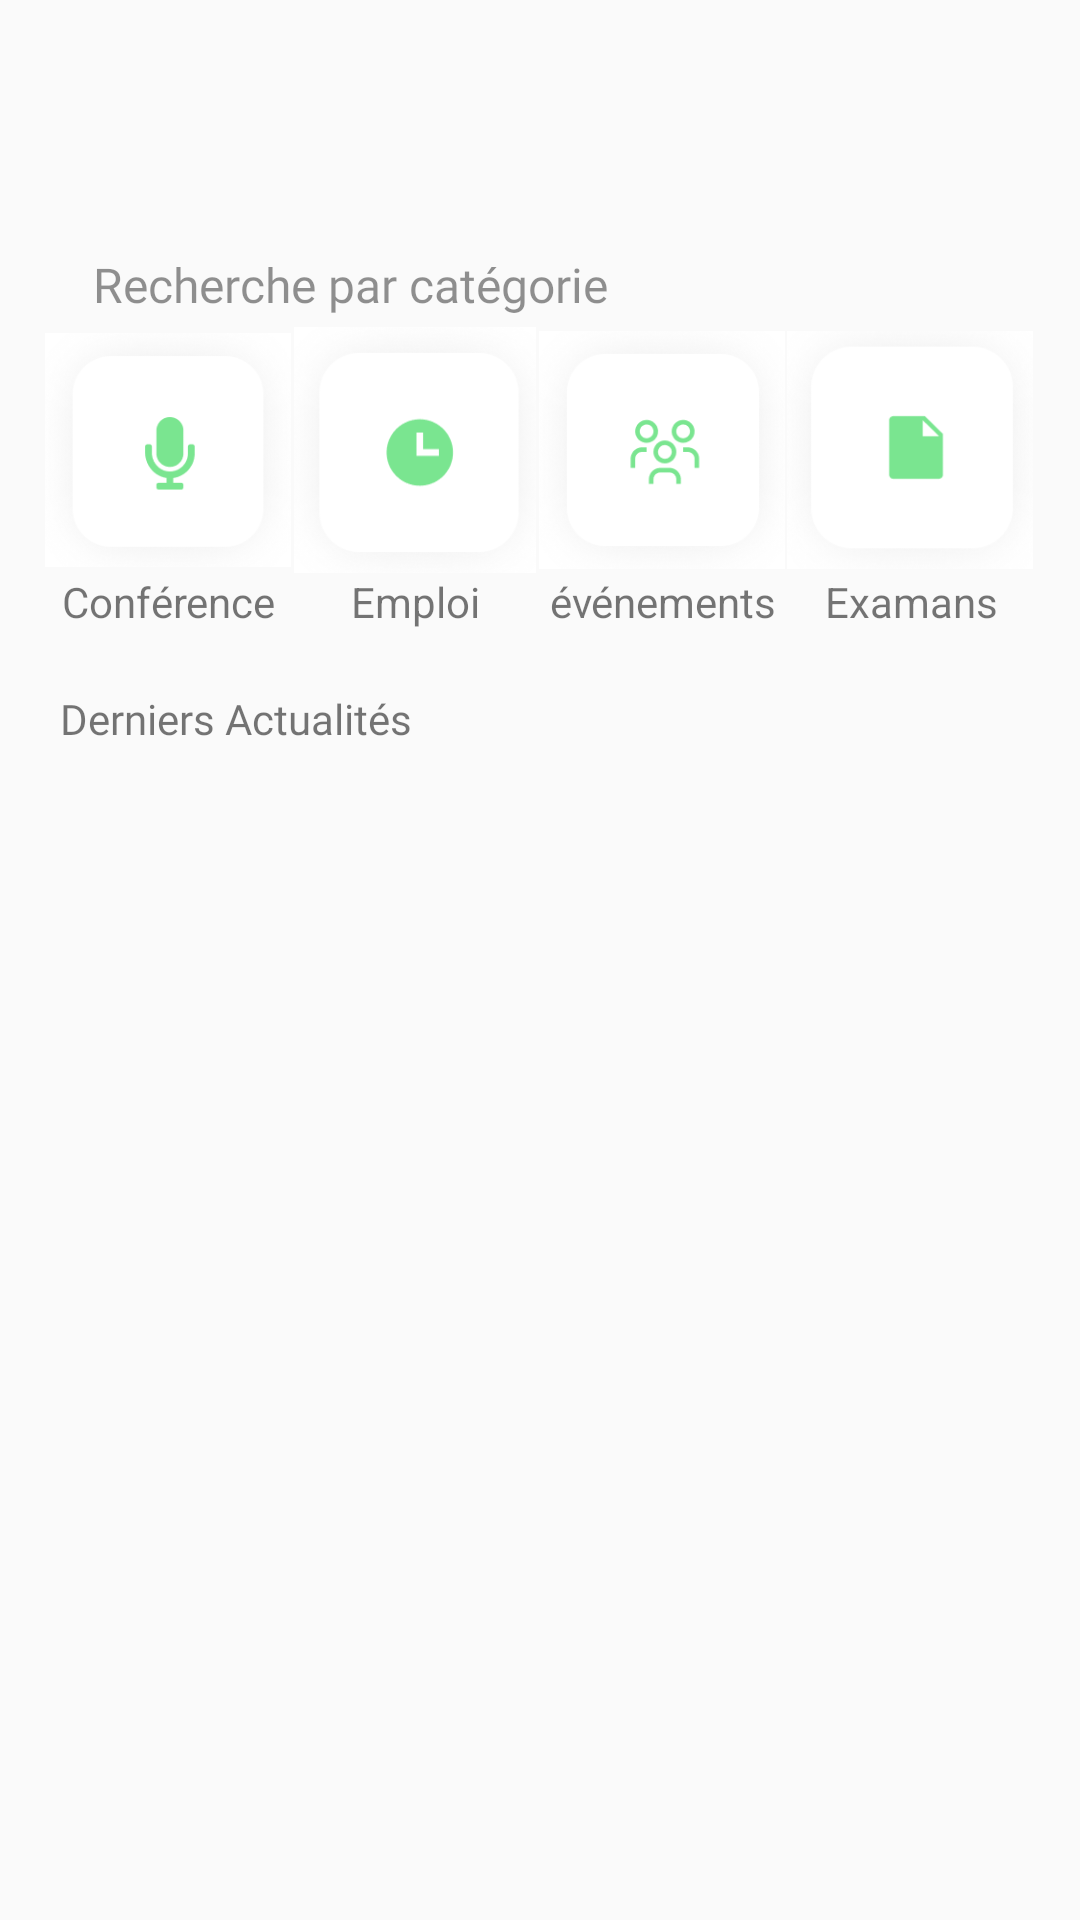

Icon click points for this 1080 x 1920 phone screenshot, format point (x, y):
doc: point (916, 447)
event: point (665, 452)
